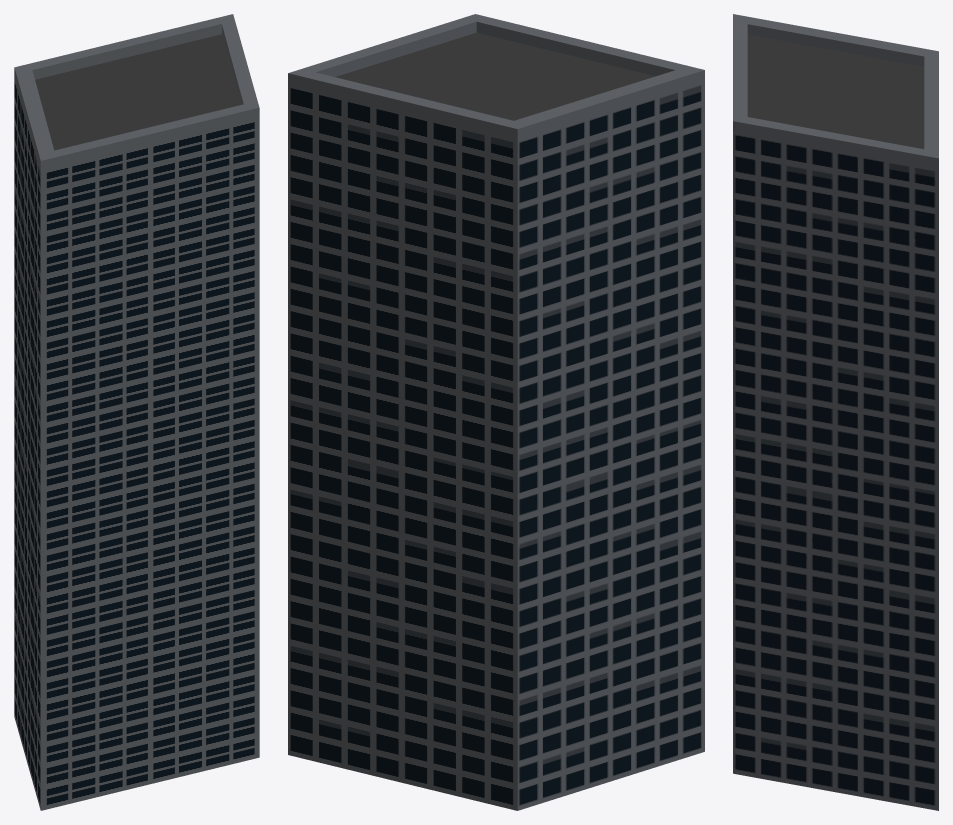
Rendered from SM_Env_Background_Building_03.fbx.
3 views of the same model, side by side, from view 1: azimuth 30°, elevation 25°; view 2: azimuth 150°, elevation 25°; view 3: azimuth 270°, elevation 25° (orthographic). The views are drawn at different scales.
Visible parts, largest first — view 1: SM_Env_Background_Building_03; view 2: SM_Env_Background_Building_03; view 3: SM_Env_Background_Building_03.
Part boxes in pixels (left/top/right/bottom): SM_Env_Background_Building_03: left=14, top=14, right=259, bottom=810; SM_Env_Background_Building_03: left=288, top=14, right=704, bottom=810; SM_Env_Background_Building_03: left=733, top=14, right=938, bottom=810.
Bounding box in the file's own units: 2960 × 6236 × 1782.
